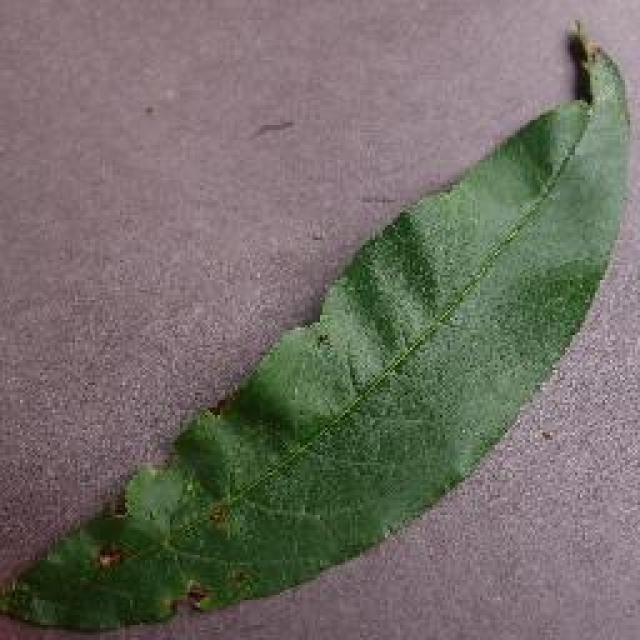Pea_Bacterial_spot: (68, 479, 262, 626)
